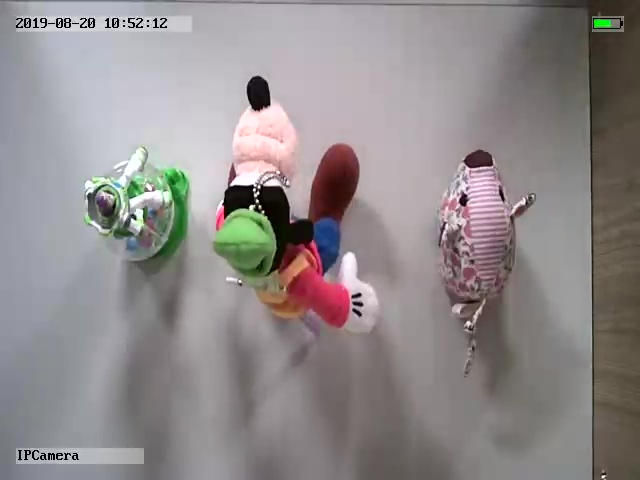buzz: (82, 143, 193, 265)
goofy: (213, 74, 380, 338)
pig: (432, 149, 537, 379)
